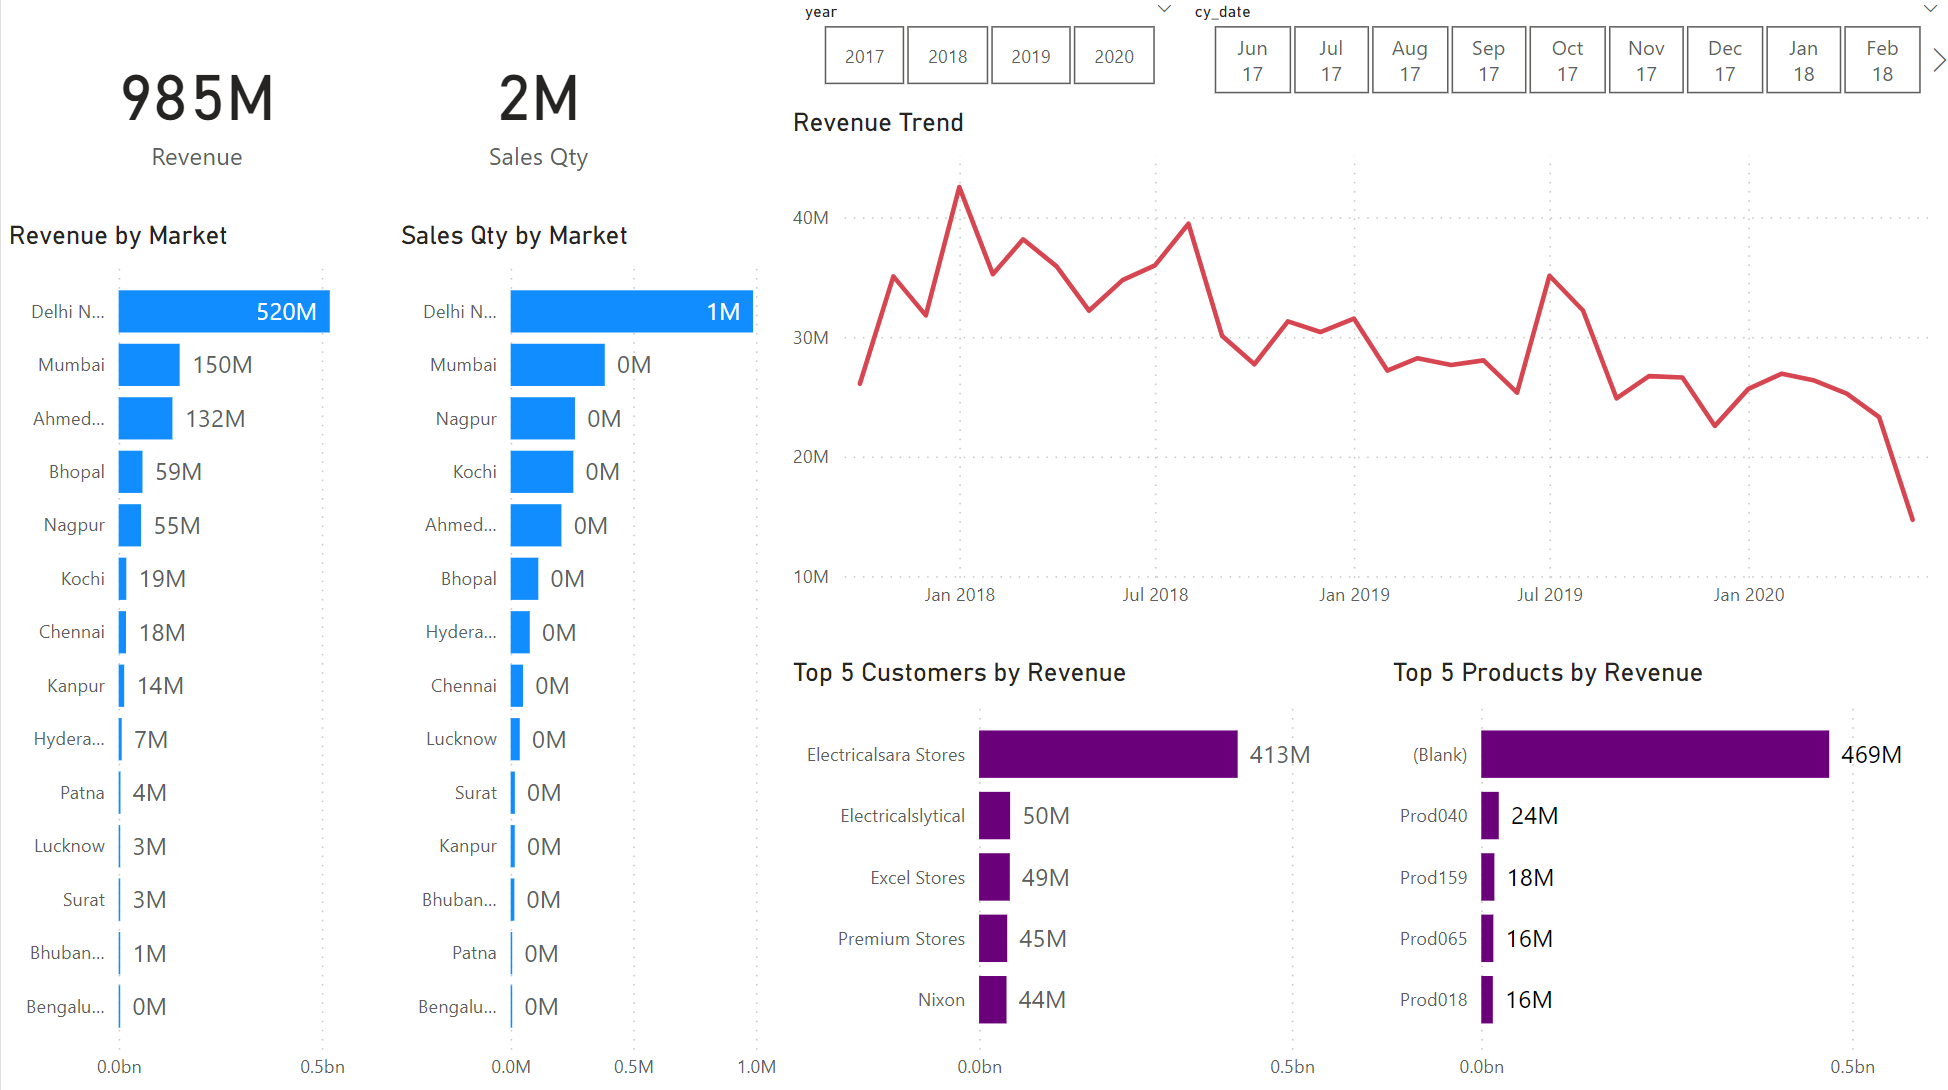

This screenshot's page, from the dashboard's own definition file:
{"tool":"powerbi","page":{"name":"Page 1","canvas":[1280,720],"ordinal":0},"visuals":[{"type":"card","fields":{"Values":["BaseMeasures.Revenue"]},"box":[0,0,256.5,147.9],"z":0},{"type":"card","fields":{"Values":["BaseMeasures.Sales Qty"]},"box":[256.5,0,190.4,147.9],"z":1000},{"type":"barChart","title":"Revenue by Market","fields":{"Y":["BaseMeasures.Revenue"],"Category":["sales markets.markets_name"]},"box":[0,147.9,256.5,571.9],"z":2000},{"type":"barChart","title":"Sales Qty by Market","fields":{"Y":["BaseMeasures.Sales Qty"],"Category":["sales markets.markets_name"]},"box":[256.5,147.9,256.5,571.9],"z":3000},{"type":"slicer","fields":{"Values":["sales date.year"]},"box":[513,0,265.7,66.1],"z":4000},{"type":"slicer","fields":{"Values":["sales date.cy_date"]},"box":[768.3,0,511.7,66.1],"z":5000},{"type":"barChart","title":"Top 5 Customers by Revenue","fields":{"Y":["BaseMeasures.Revenue"],"Category":["sales customers.custmer_name"]},"box":[513,433.9,392.6,286],"z":6000},{"type":"barChart","title":"Top 5 Products by Revenue","fields":{"Y":["BaseMeasures.Revenue"],"Category":["sales products.product_code"]},"box":[905.7,433.9,374.3,286],"z":7000},{"type":"lineChart","title":"Revenue Trend","fields":{"Y":["BaseMeasures.Revenue"],"Category":["sales date.cy_date.Variation.Date Hierarchy.Year","sales date.cy_date.Variation.Date Hierarchy.Quarter","sales date.cy_date.Variation.Date Hierarchy.Month","sales date.cy_date.Variation.Date Hierarchy.Day"]},"box":[513,73.9,767,337],"z":8000}]}

Visuals, with their boxes in screenshot pixels (x1, y1, x2, y2), scaled from the page's 1280x720 canvas onto the 1948x1090 screenshot:
card - BaseMeasures.Revenue: crop(0, 0, 390, 224)
card - BaseMeasures.Sales Qty: crop(390, 0, 680, 224)
"Revenue by Market" barChart: crop(0, 224, 390, 1089)
"Sales Qty by Market" barChart: crop(390, 224, 781, 1089)
slicer - sales date.year: crop(781, 0, 1185, 100)
slicer - sales date.cy_date: crop(1169, 0, 1947, 100)
"Top 5 Customers by Revenue" barChart: crop(781, 657, 1378, 1089)
"Top 5 Products by Revenue" barChart: crop(1378, 657, 1947, 1089)
"Revenue Trend" lineChart: crop(781, 112, 1947, 622)
